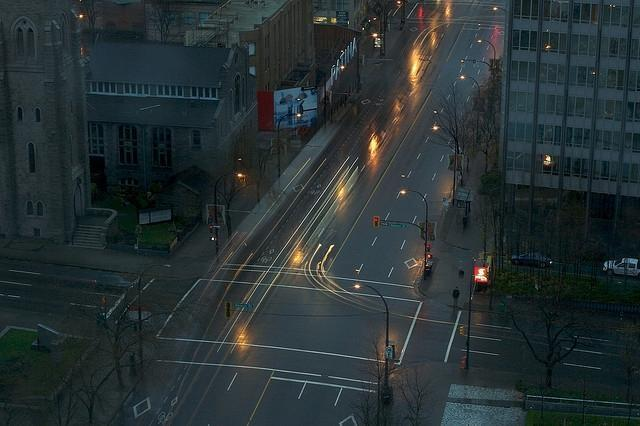car: (511, 252, 553, 268)
truck: (604, 258, 640, 280)
